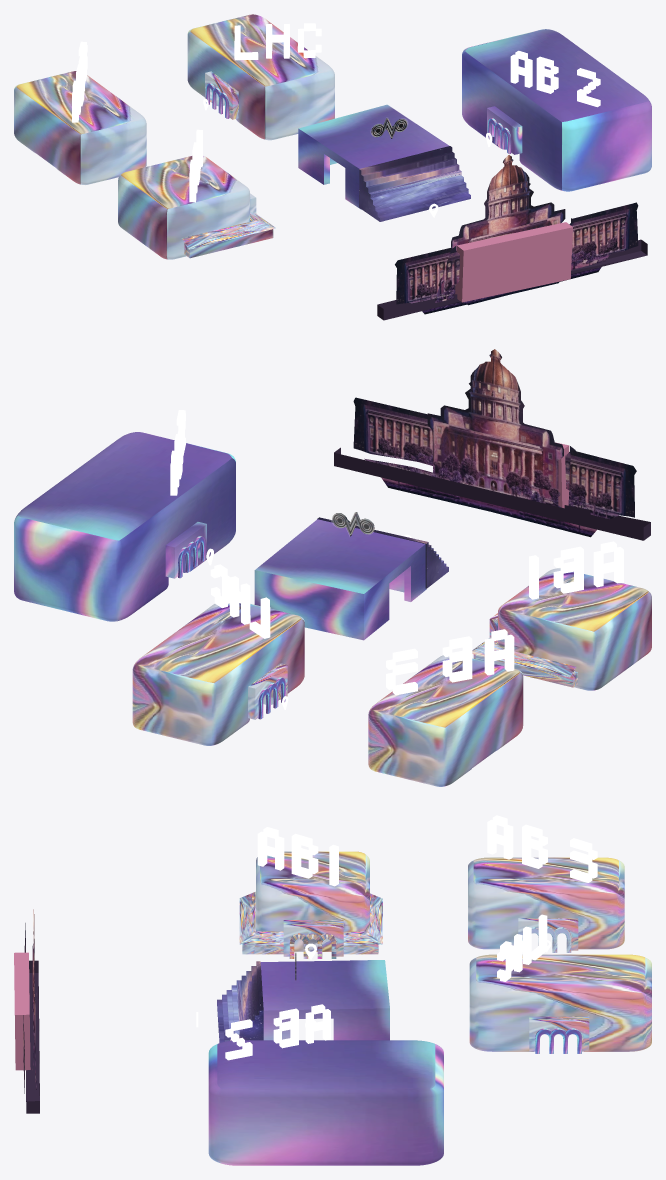
File: map-opt.glb
3 views of the same model, one above another, from view 1: azimuth 30°, elevation 25°; view 2: azimuth 150°, elevation 25°; view 3: azimuth 270°, elevation 25° (orthographic). The views are drawn at different scales.
Parts seen in each view (by area): view 1: AB2, dome, LHCnew, AB1, AB3, Mess, Stairs, AB2text, LHCtext, AB3text, AB1extend.002, AB!text (+3 smaller); view 2: AB2, dome, LHCnew, AB3, Mess, AB1, AB3text, AB!text, LHCtext, AB1extend.002, AB1extend.003, AB2text (+3 smaller); view 3: AB2, LHCnew, AB1, AB3, Mess, dome, AB3text, Stairs, AB!text, AB2text, LHCtext, AB1extend.004 (+2 smaller).
Boxes of the visible parts, <box> form: AB2: <box>462,29,651,191</box>; dome: <box>377,155,647,320</box>; LHCnew: <box>187,14,334,140</box>; AB1: <box>118,156,275,259</box>; AB3: <box>14,71,146,184</box>; Mess: <box>298,104,449,209</box>; Stairs: <box>359,146,470,221</box>; AB2text: <box>510,50,600,107</box>; LHCtext: <box>234,23,321,60</box>; AB3text: <box>72,41,87,122</box>; AB1extend.002: <box>487,106,522,154</box>; AB!text: <box>189,129,202,202</box>; AB2: <box>14,432,235,621</box>; dome: <box>334,349,650,540</box>; LHCnew: <box>132,603,304,745</box>; AB3: <box>368,655,523,786</box>; Mess: <box>254,519,426,640</box>; AB1: <box>472,568,651,690</box>; AB3text: <box>386,629,514,695</box>; AB!text: <box>529,541,623,599</box>; LHCtext: <box>210,564,270,638</box>; AB1extend.002: <box>165,522,206,578</box>; AB1extend.003: <box>248,663,287,719</box>; AB2text: <box>170,410,185,495</box>; AB2: <box>208,1040,443,1165</box>; LHCnew: <box>469,954,651,1051</box>; AB1: <box>239,851,382,958</box>; AB3: <box>468,857,624,949</box>; Mess: <box>260,960,389,1040</box>; dome: <box>14,909,39,1113</box>; AB3text: <box>487,815,597,882</box>; Stairs: <box>217,961,263,1042</box>; AB!text: <box>257,827,338,886</box>; AB2text: <box>225,1004,330,1060</box>; LHCtext: <box>497,914,547,981</box>; AB1extend.004: <box>529,1016,589,1051</box>.
Bounding box in the file's own units: 443 × 126 × 477.
Materials: 30 (17 with a texture image).
